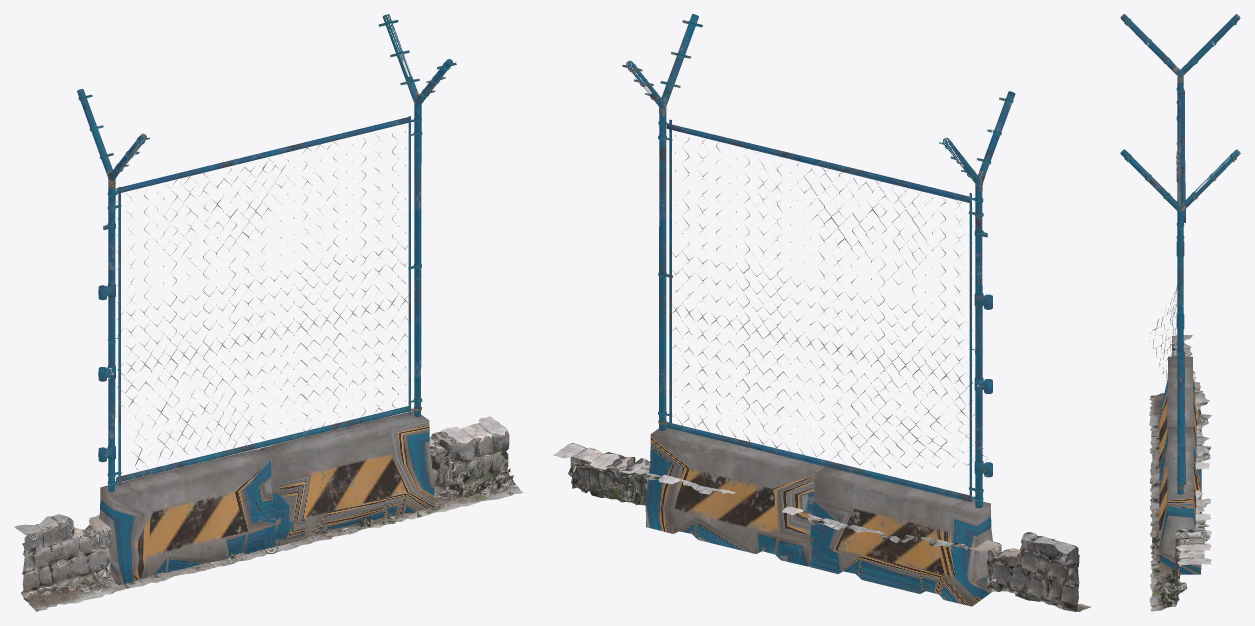
Rendered from w1_fence.glb.
3 views of the same model, side by side, from view 1: azimuth 30°, elevation 25°; view 2: azimuth 150°, elevation 25°; view 3: azimuth 270°, elevation 25° (orthographic). The views are drawn at different scales.
Parts seen in each view (by area): view 1: wire, stone; view 2: wire, stone; view 3: wire, stone.
Part boxes in pixels (box(x1,y1,x2,y2)): wire: box(77, 14, 456, 585); stone: box(14, 416, 523, 611); wire: box(622, 14, 1015, 606); stone: box(553, 443, 1090, 611); wire: box(1120, 14, 1240, 574); stone: box(1149, 335, 1211, 611).
Bounding box in the file's own units: 4.64 × 4.22 × 1.09.
2 materials, 2 textured.
